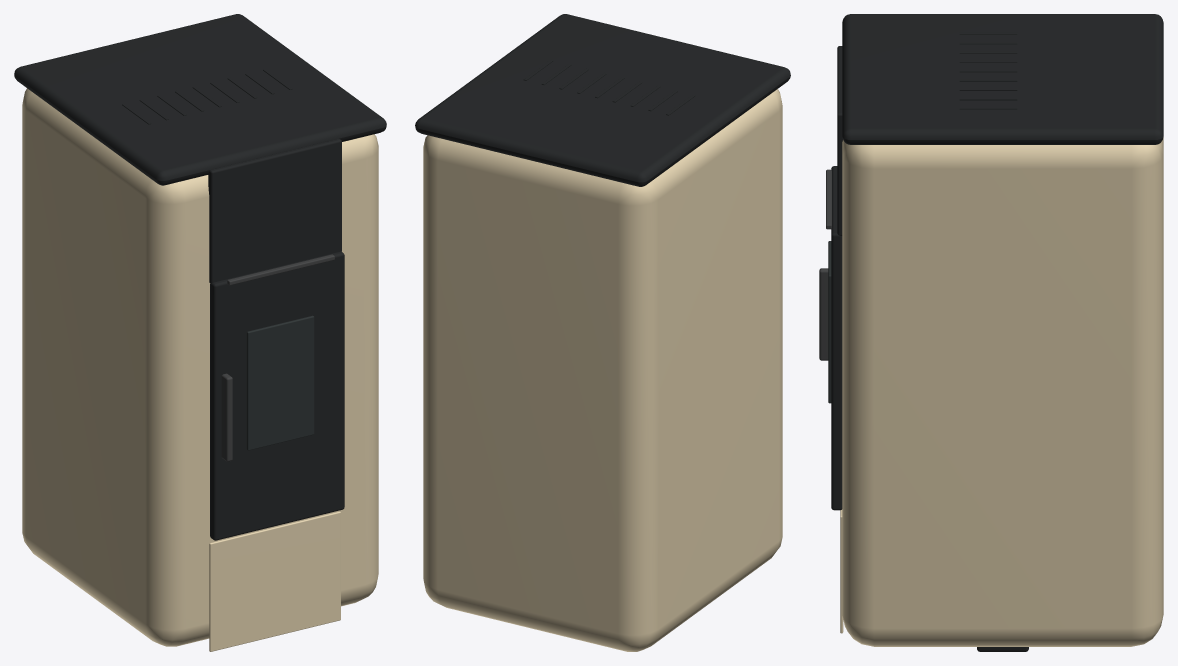
File: nordica-angelica-plus-evo-avorio.glb
3 views of the same model, side by side, from view 1: azimuth 30°, elevation 25°; view 2: azimuth 150°, elevation 25°; view 3: azimuth 270°, elevation 25° (orthographic). The views are drawn at different scales.
Parts seen in each view (by area): view 1: Corpo laterale, Copertura superiore, Cornice sportello, Pannello superiore, Base frontale, Vetro sportello, Maniglia sportello, Presa superiore; view 2: Corpo laterale, Copertura superiore; view 3: Corpo laterale, Copertura superiore, Cornice sportello, Pannello superiore, Maniglia sportello, Vetro sportello.
Boxes of the visible parts, bbox=[...] form: Corpo laterale: bbox=[22, 88, 378, 646]; Copertura superiore: bbox=[14, 14, 386, 185]; Cornice sportello: bbox=[210, 251, 344, 540]; Pannello superiore: bbox=[208, 138, 341, 283]; Base frontale: bbox=[209, 511, 340, 651]; Vetro sportello: bbox=[246, 315, 314, 450]; Maniglia sportello: bbox=[221, 373, 232, 461]; Presa superiore: bbox=[227, 254, 334, 285]; Corpo laterale: bbox=[423, 89, 782, 651]; Copertura superiore: bbox=[415, 14, 790, 186]; Corpo laterale: bbox=[842, 137, 1163, 646]; Copertura superiore: bbox=[842, 14, 1163, 144]; Cornice sportello: bbox=[831, 166, 842, 510]; Pannello superiore: bbox=[837, 46, 842, 235]; Maniglia sportello: bbox=[819, 268, 828, 360]; Vetro sportello: bbox=[828, 241, 831, 403].
Size of the model in its own units: 0.495 by 1.02 by 0.5945.
